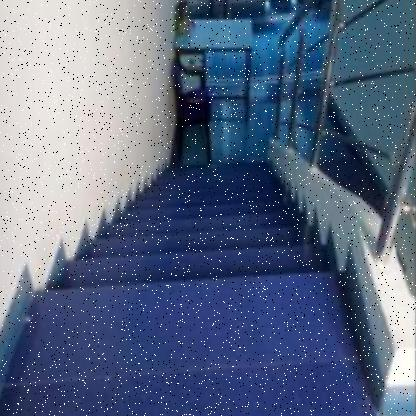stair_down: (24, 195, 324, 310)
